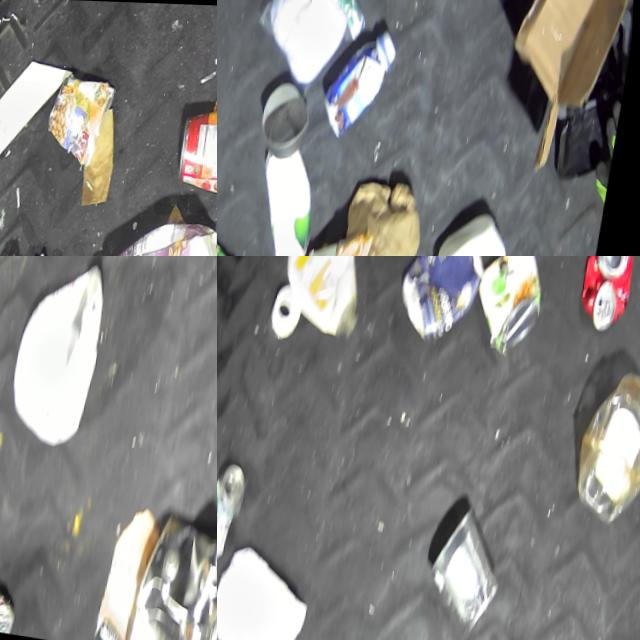can: (420, 495, 515, 640), (389, 256, 492, 350), (466, 256, 553, 357), (41, 71, 116, 168), (258, 74, 318, 158), (573, 256, 638, 332), (172, 94, 217, 195), (217, 454, 251, 566)
milk_jug: (5, 256, 113, 448), (250, 139, 328, 256)
non_white_jug: (80, 200, 217, 256)
